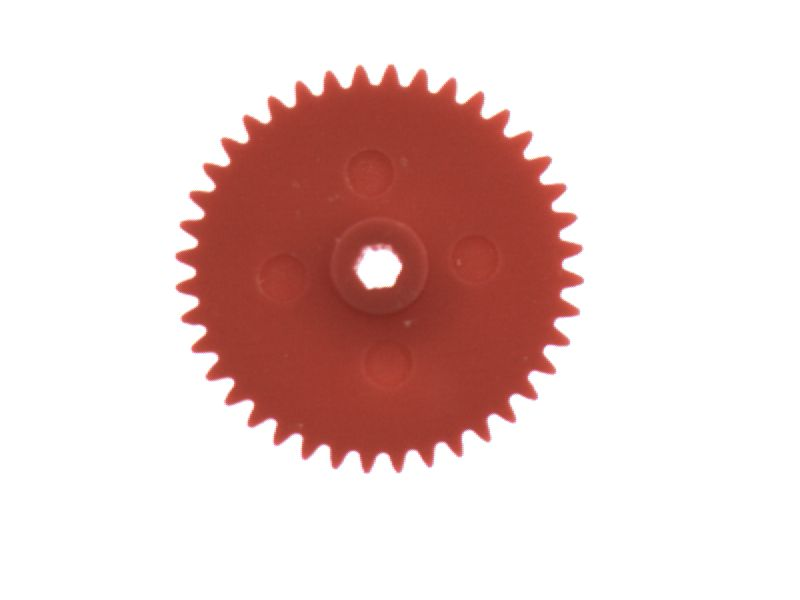good_product: (164, 54, 596, 485)
